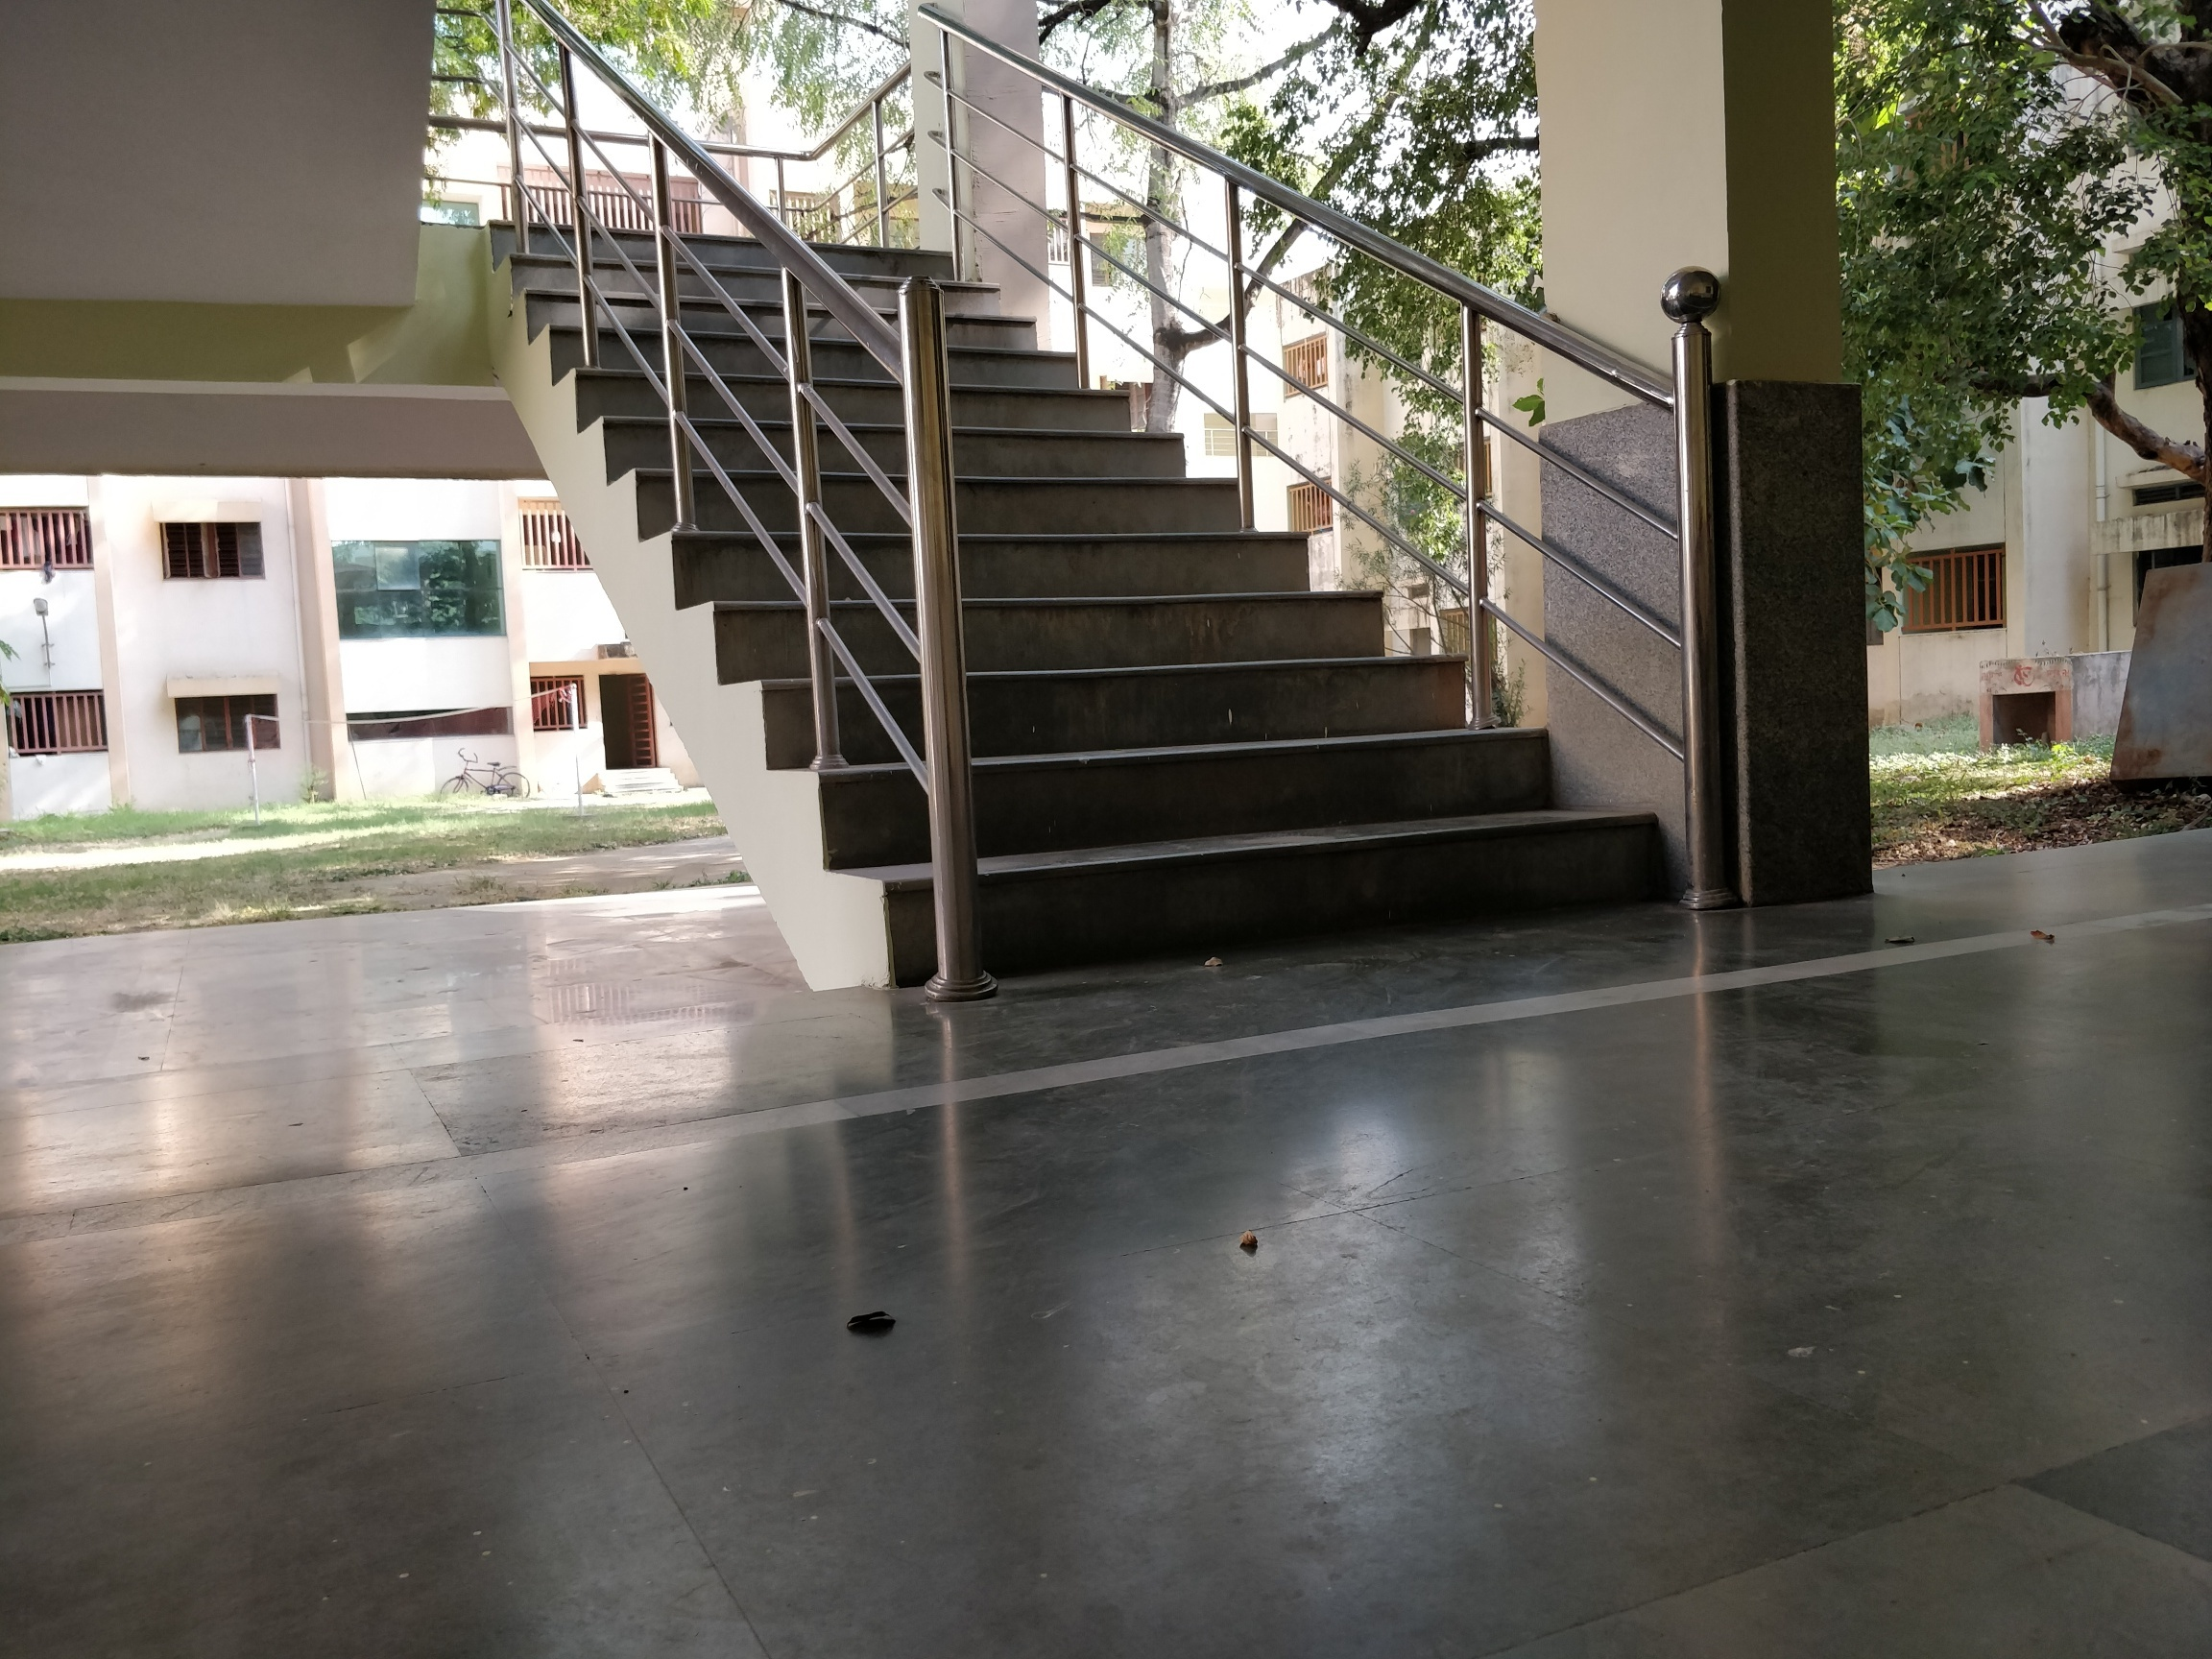stairs_up: (481, 204, 1672, 990)
